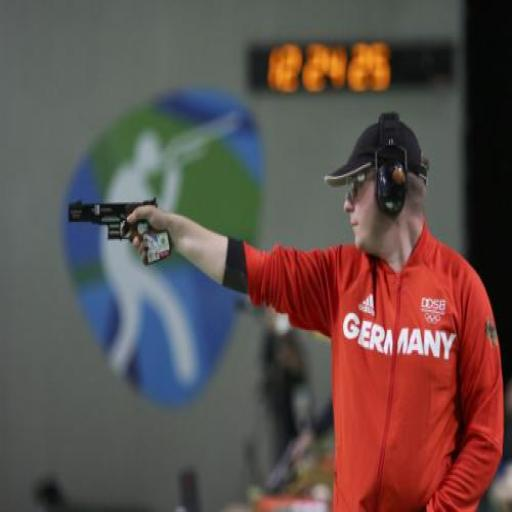shooting: (123, 110, 507, 510)
